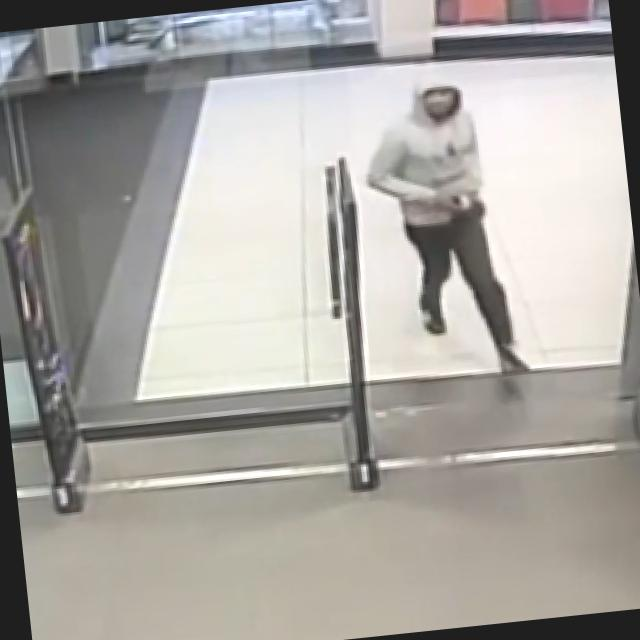person: (354, 60, 528, 386)
